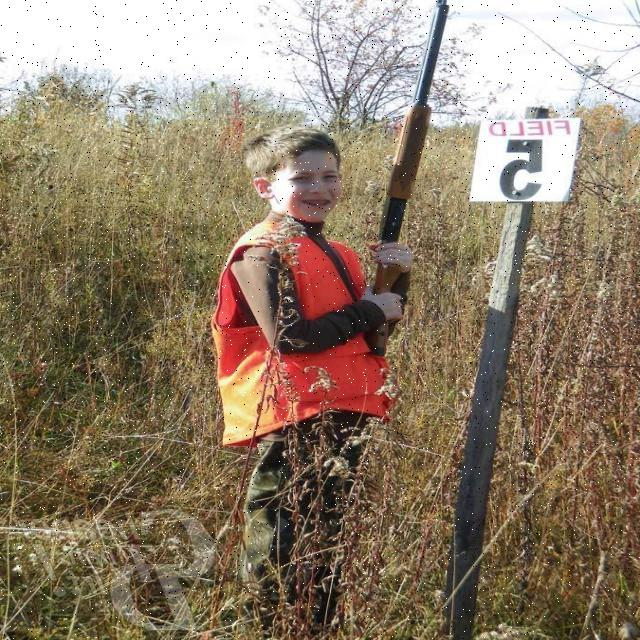Vest: (209, 240, 368, 450)
